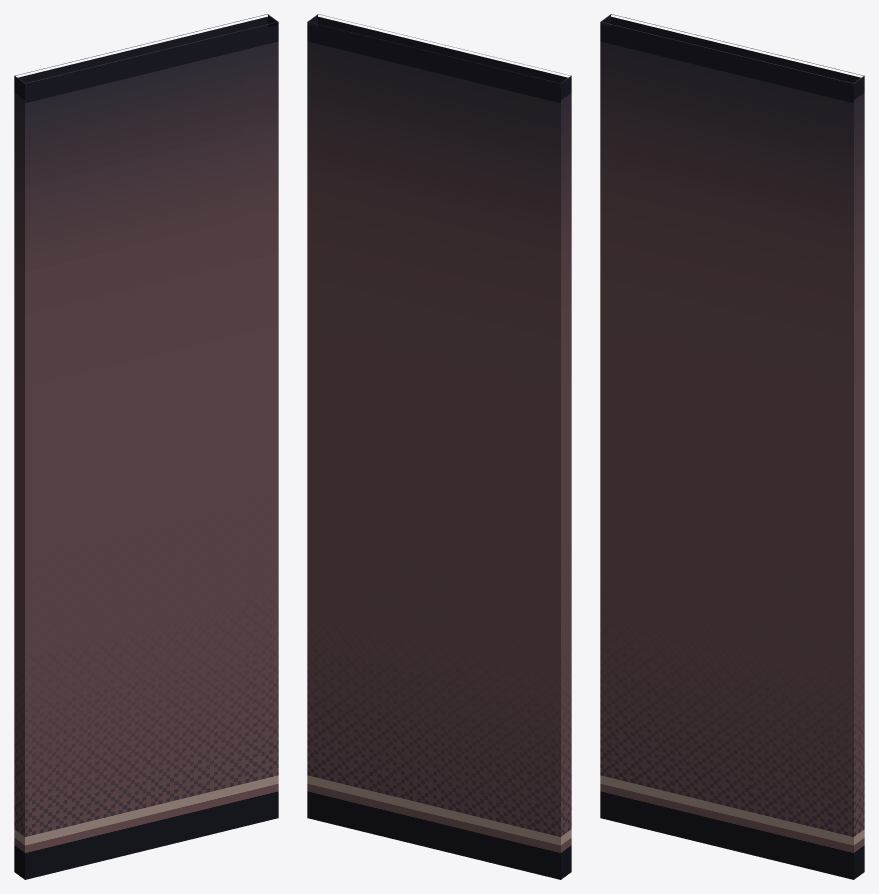
The model's file is office wall.fbx.
3 renders of one model, left to right at view 1: azimuth 30°, elevation 25°; view 2: azimuth 150°, elevation 25°; view 3: azimuth 330°, elevation 25°, orthographic.
Visible parts, largest first — view 1: wall; view 2: wall; view 3: wall.
Part boxes in pixels (x1,y1,x2,y2): wall: (14, 14, 278, 879); wall: (307, 14, 571, 879); wall: (600, 14, 864, 879).
Bounding box in the file's own units: 200 × 600 × 14.89.
